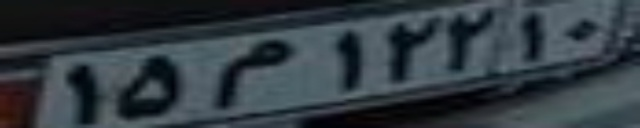0: (561, 20, 600, 41)
1: (63, 64, 99, 125), (335, 30, 364, 90), (520, 13, 545, 60)
2: (385, 16, 439, 83), (444, 8, 496, 72)
5: (115, 54, 180, 120)
mim: (216, 39, 292, 109)
